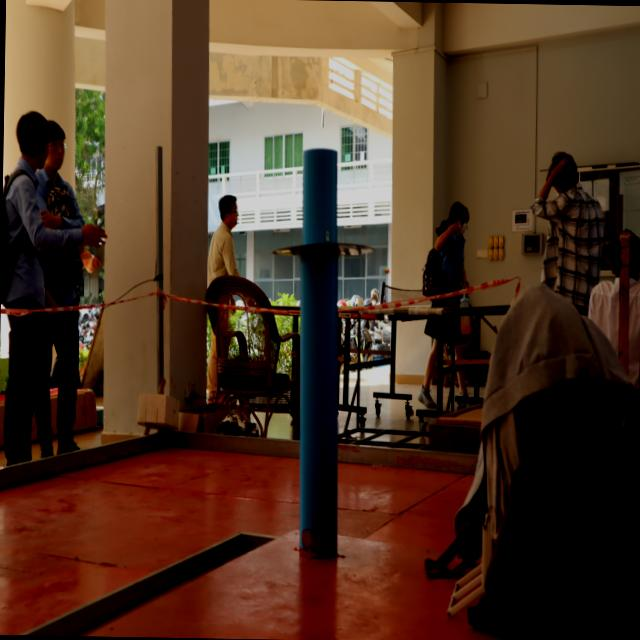pole: (270, 140, 376, 350)
